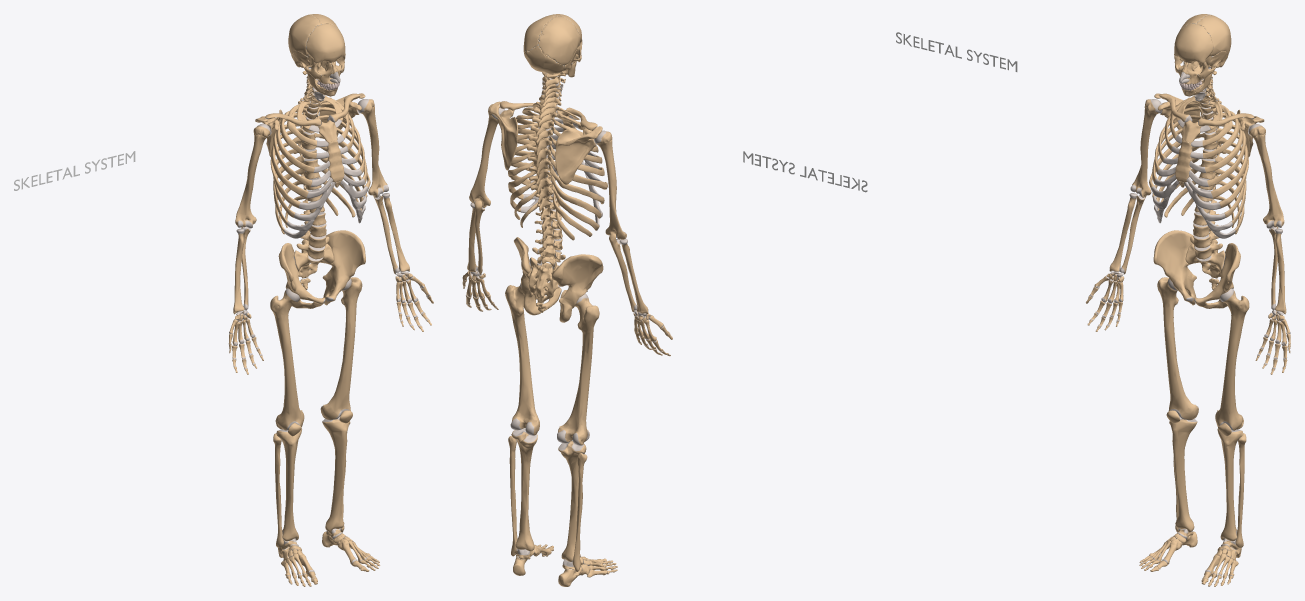
The model's file is skeletal.glb.
3 views of the same model, side by side, from view 1: azimuth 30°, elevation 25°; view 2: azimuth 150°, elevation 25°; view 3: azimuth 330°, elevation 25° (orthographic). The views are drawn at different scales.
Parts seen in each view (by area): view 1: Femur.r.001, Femur.l.001, Hip bone.l.001, Tibia.l.001, Frontal bone.001, Tibia.r.001, Humerus.r.001, Humerus.l.001, Hip bone.r.001, Parietal bone.r.001, Sacrum.001, Skeletal system.g.001 (+3 smaller); view 2: Femur.r.001, Femur.l.001, Hip bone.r.001, Scapula.r.001, Parietal bone.r.001, Tibia.l.001, Tibia.r.001, Humerus.r.001, Humerus.l.001, Hip bone.l.001, Scapula.l.001, Sacrum.001 (+6 smaller); view 3: Femur.l.001, Femur.r.001, Hip bone.r.001, Tibia.r.001, Tibia.l.001, Frontal bone.001, Humerus.l.001, Humerus.r.001, Hip bone.l.001, Parietal bone.l.001, Sacrum.001, Skeletal system.g.001 (+4 smaller).
Part boxes in pixels (x1,y1,x2,y2): Femur.r.001: (270,288,304,430); Femur.l.001: (320,277,362,420); Hip bone.l.001: (322,230,365,305); Tibia.l.001: (322,416,349,532); Frontal bone.001: (306,23,345,64); Tibia.r.001: (276,429,301,541); Humerus.r.001: (235,123,270,228); Humerus.l.001: (357,99,388,197); Hip bone.r.001: (278,243,325,308); Parietal bone.r.001: (288,14,321,56); Sacrum.001: (294,244,333,278); Skeletal system.g.001: (14,151,135,190); Femur.r.001: (557,293,599,445); Femur.l.001: (505,283,539,435); Hip bone.r.001: (552,254,603,322); Scapula.r.001: (555,126,602,184); Parietal bone.r.001: (538,15,580,65); Tibia.l.001: (511,428,537,550); Tibia.r.001: (558,441,586,561); Humerus.r.001: (594,130,626,239); Humerus.l.001: (469,104,504,207); Hip bone.l.001: (514,237,561,315); Scapula.l.001: (489,101,518,170); Sacrum.001: (528,257,559,302); Femur.l.001: (1215,288,1249,430); Femur.r.001: (1157,277,1198,420); Hip bone.r.001: (1153,230,1196,305); Tibia.r.001: (1170,416,1197,532); Tibia.l.001: (1217,429,1243,541); Frontal bone.001: (1174,23,1213,64); Humerus.l.001: (1248,124,1284,228); Humerus.r.001: (1130,99,1161,197); Hip bone.l.001: (1194,243,1240,308); Parietal bone.l.001: (1196,15,1231,56); Sacrum.001: (1185,243,1225,278); Skeletal system.g.001: (896,32,1017,71).
Size of the model in its own units: 1.33 by 1.7 by 0.2501.
